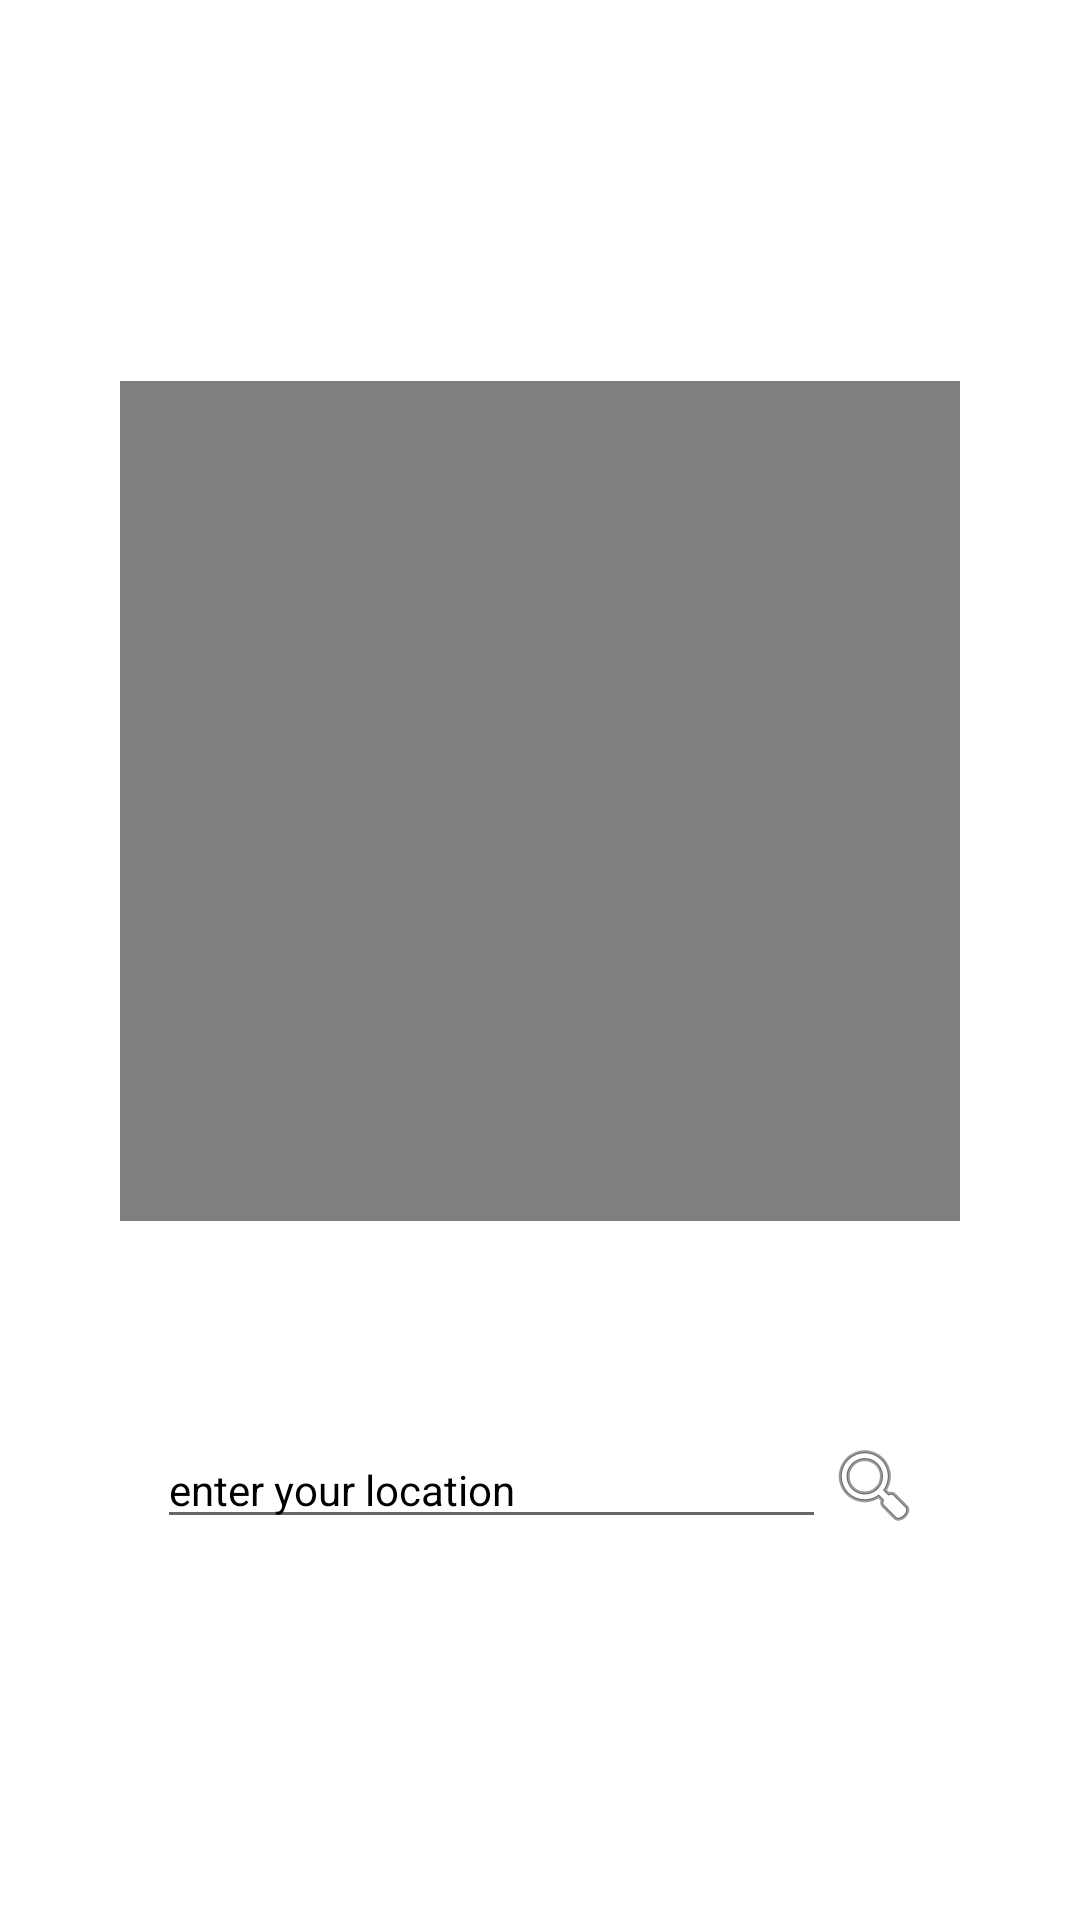

Icons on this 1080px x 1920px Android screen, each with its box as (left=x1, top=y1, right=x2, bottom=y2):
search: (left=838, top=1450, right=910, bottom=1521)
